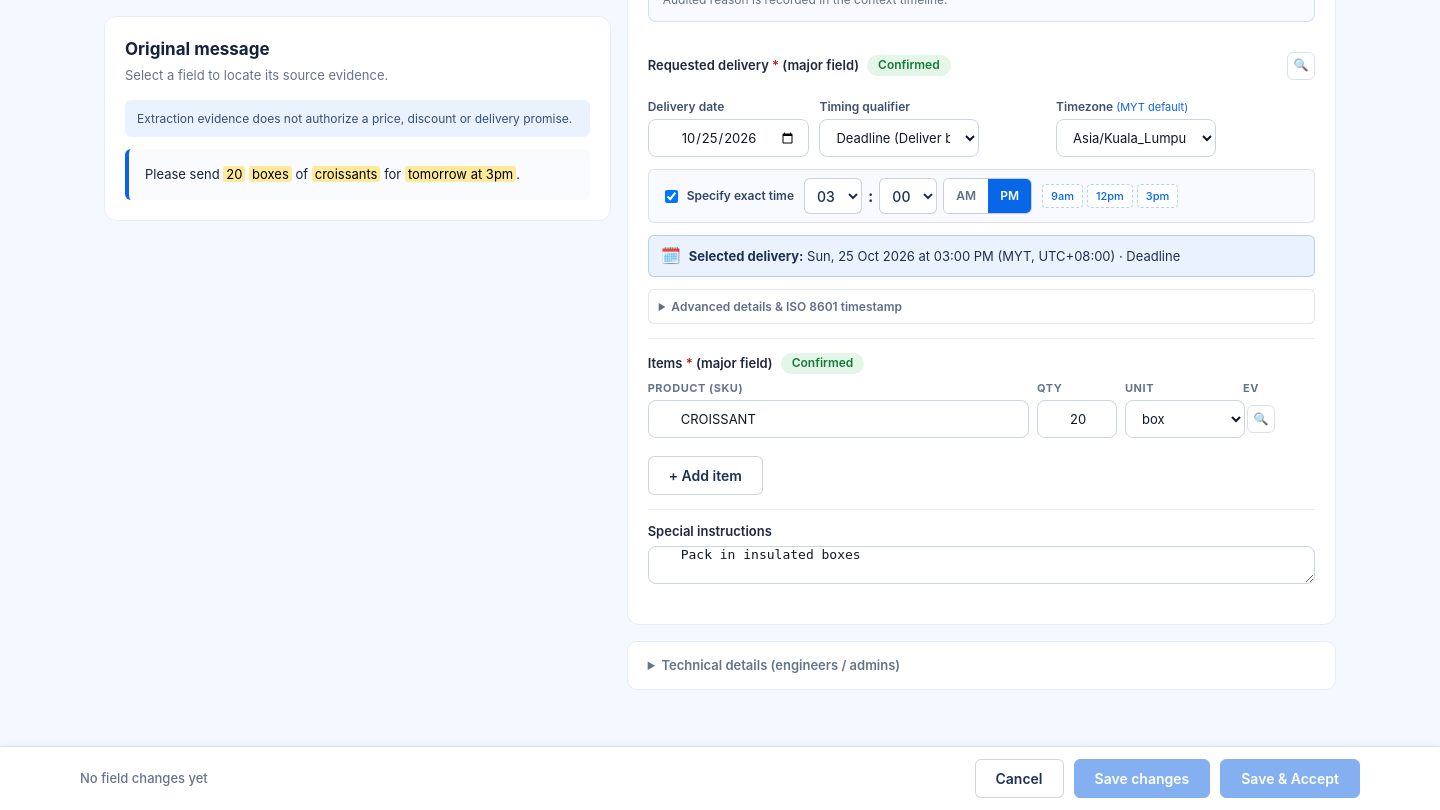
Scenario: HumanReviewPage component › Page 2: Review & Amend Full Page (/inbox/human-review/:taskId) › submits amendments with Reason modal and major field confirmation
(page scrolled)
// Edit SKU (major field)
Step 1. Replace the text in the field named "SKU / Product" with "SOURDOUGH" → (838, 419), box left=648, top=400, right=1029, bottom=438
(page scrolled)
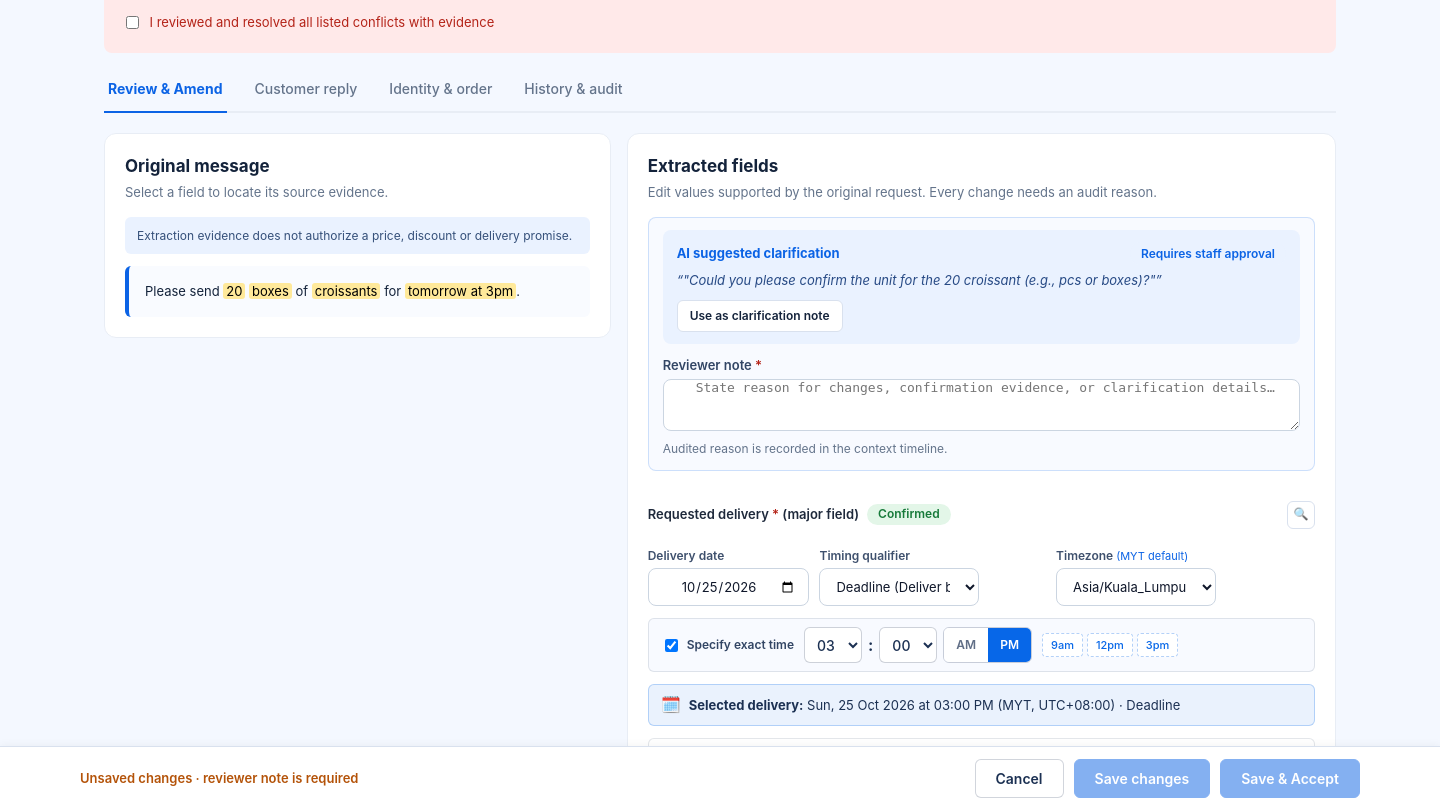
// Fill reviewer note
Step 2. Replace the text in the text box with placeholder "State reason for changes, confirmation evidence, or clarification details…" with "Customer requested sourdough substitution" → (981, 405), box left=663, top=379, right=1300, bottom=431
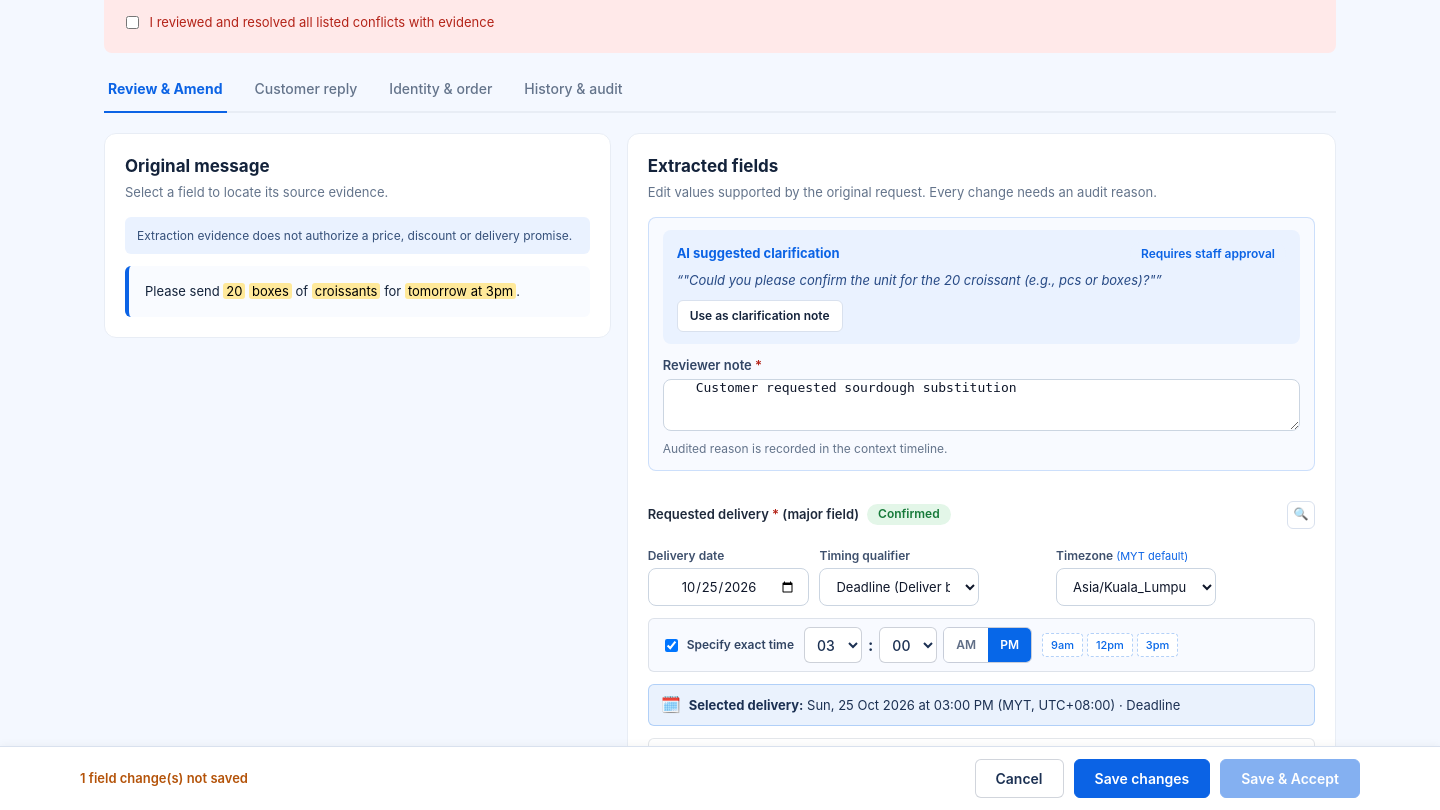
Check: the button "Save changes" is enabled
Step 3. Click the button "Save changes" → (1142, 778), box left=1074, top=759, right=1210, bottom=798
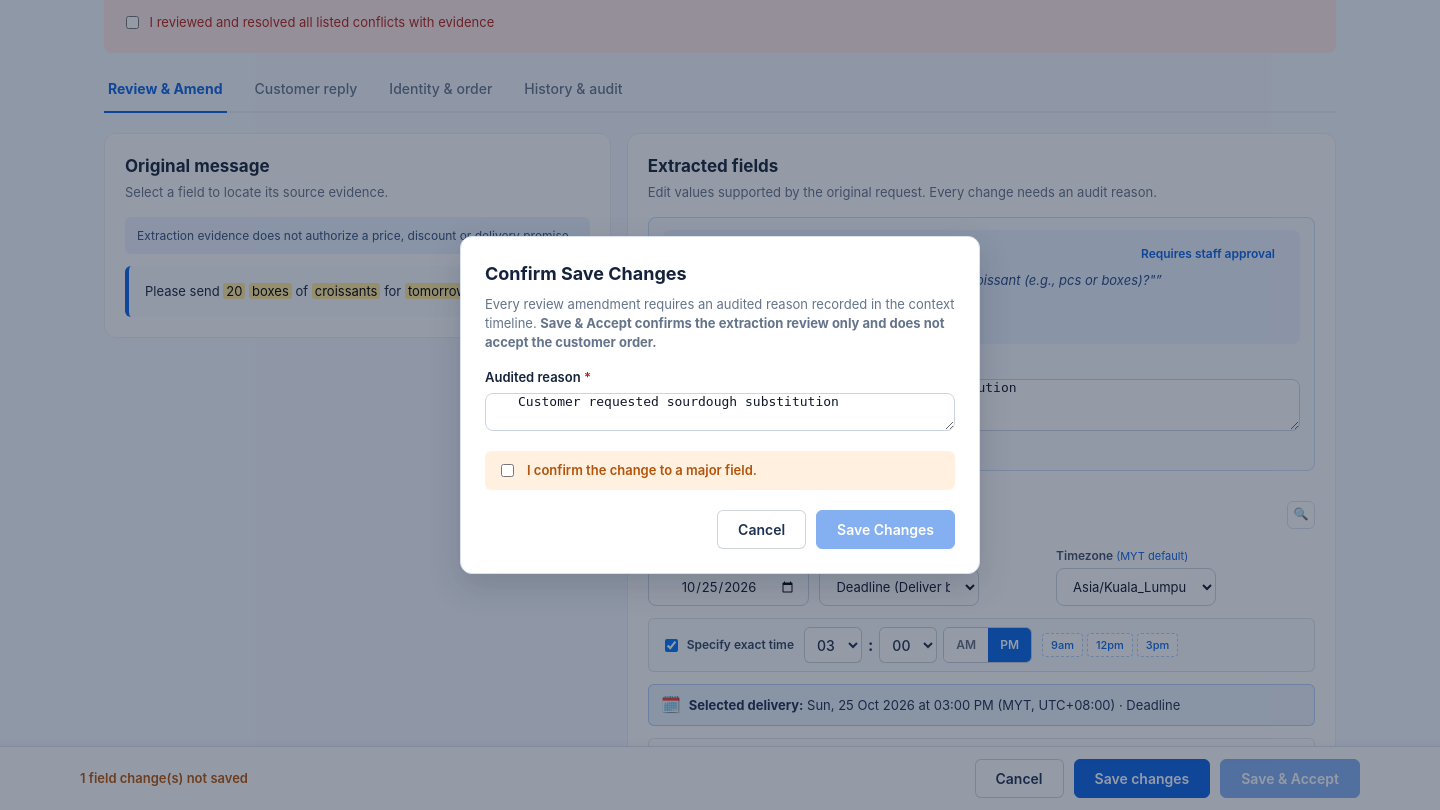
Check: the dialog "Confirm Save Changes" is shown
Check: the checkbox is shown
Step 4. Click the checkbox → (508, 470), box left=501, top=464, right=514, bottom=477
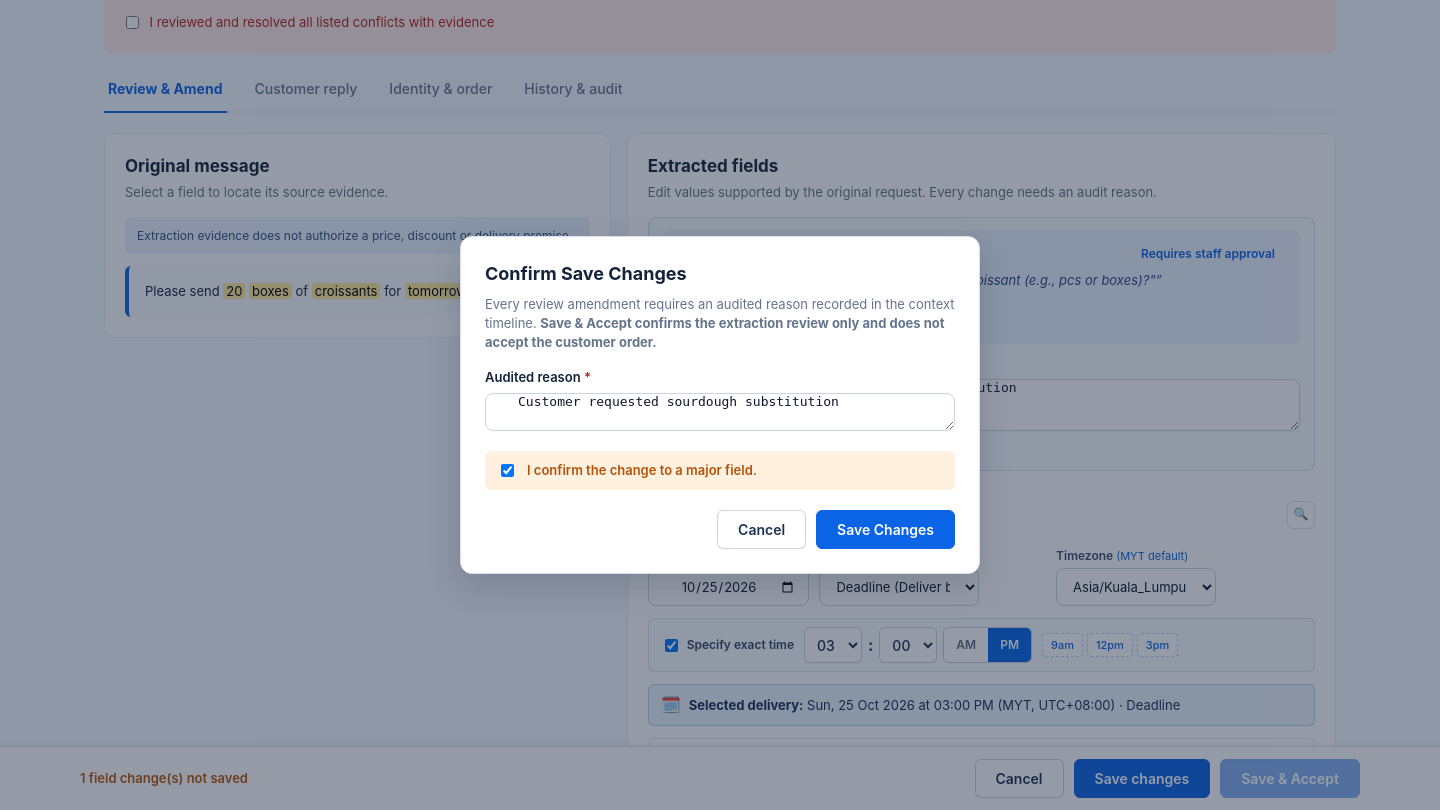
// Submit modal
Step 5. Click the button "Save Changes" → (886, 530), box left=816, top=510, right=955, bottom=549
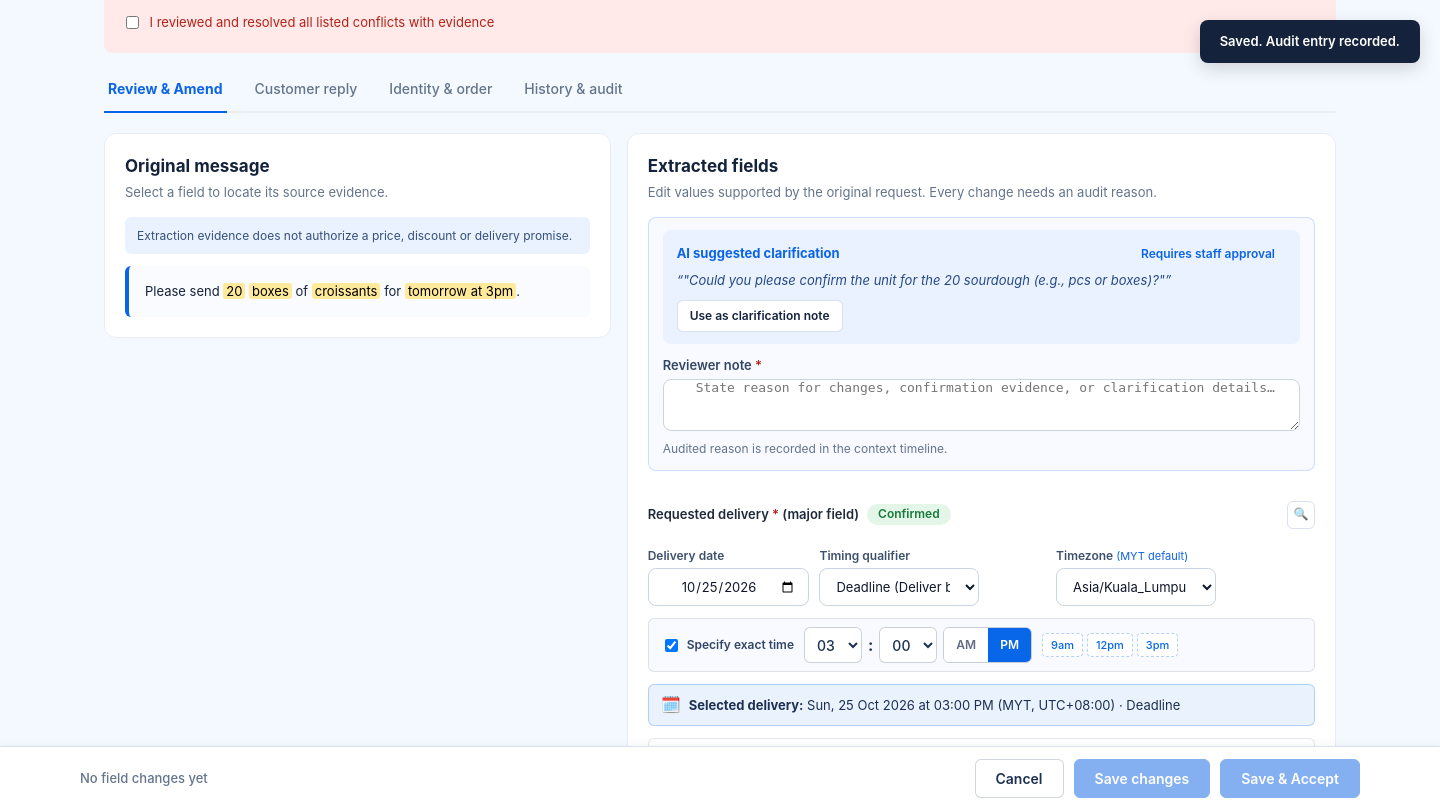
Check: the text "Saved. Audit entry recorded." is shown, box left=1200, top=20, right=1420, bottom=63
